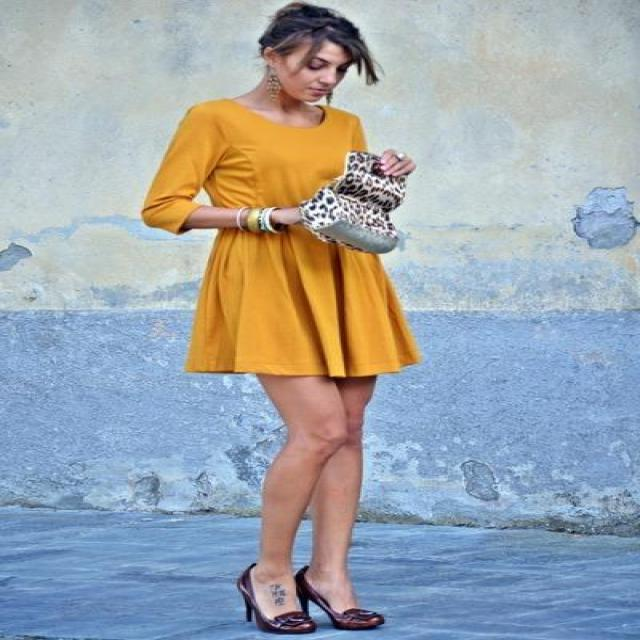bag: (302, 165, 410, 255)
dress: (141, 100, 419, 390)
shoe: (237, 576, 384, 634)
